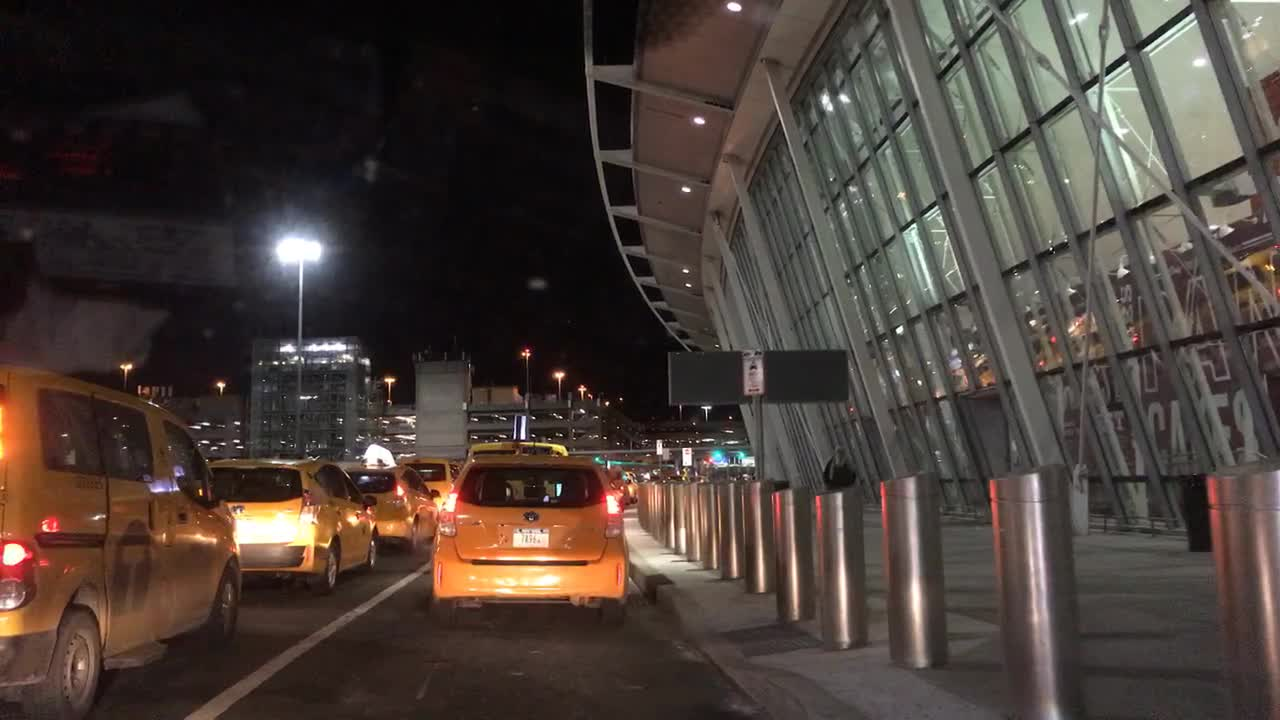car: (0, 360, 244, 717), (429, 451, 630, 632), (206, 451, 384, 597), (334, 442, 440, 554), (395, 452, 460, 502), (462, 437, 568, 459), (603, 463, 631, 508), (624, 466, 640, 503)
person: (821, 441, 860, 493)
traffic sign: (661, 349, 855, 408), (740, 347, 767, 398), (680, 446, 696, 470)
